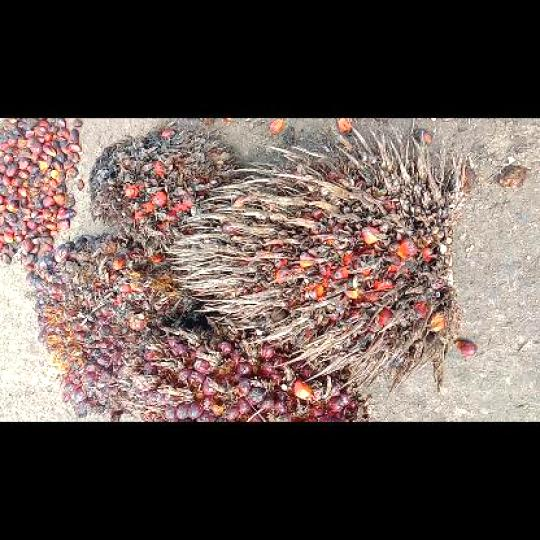masak: (28, 234, 202, 415), (130, 320, 369, 421)
terlalu masak: (167, 125, 466, 392), (89, 129, 242, 253)
